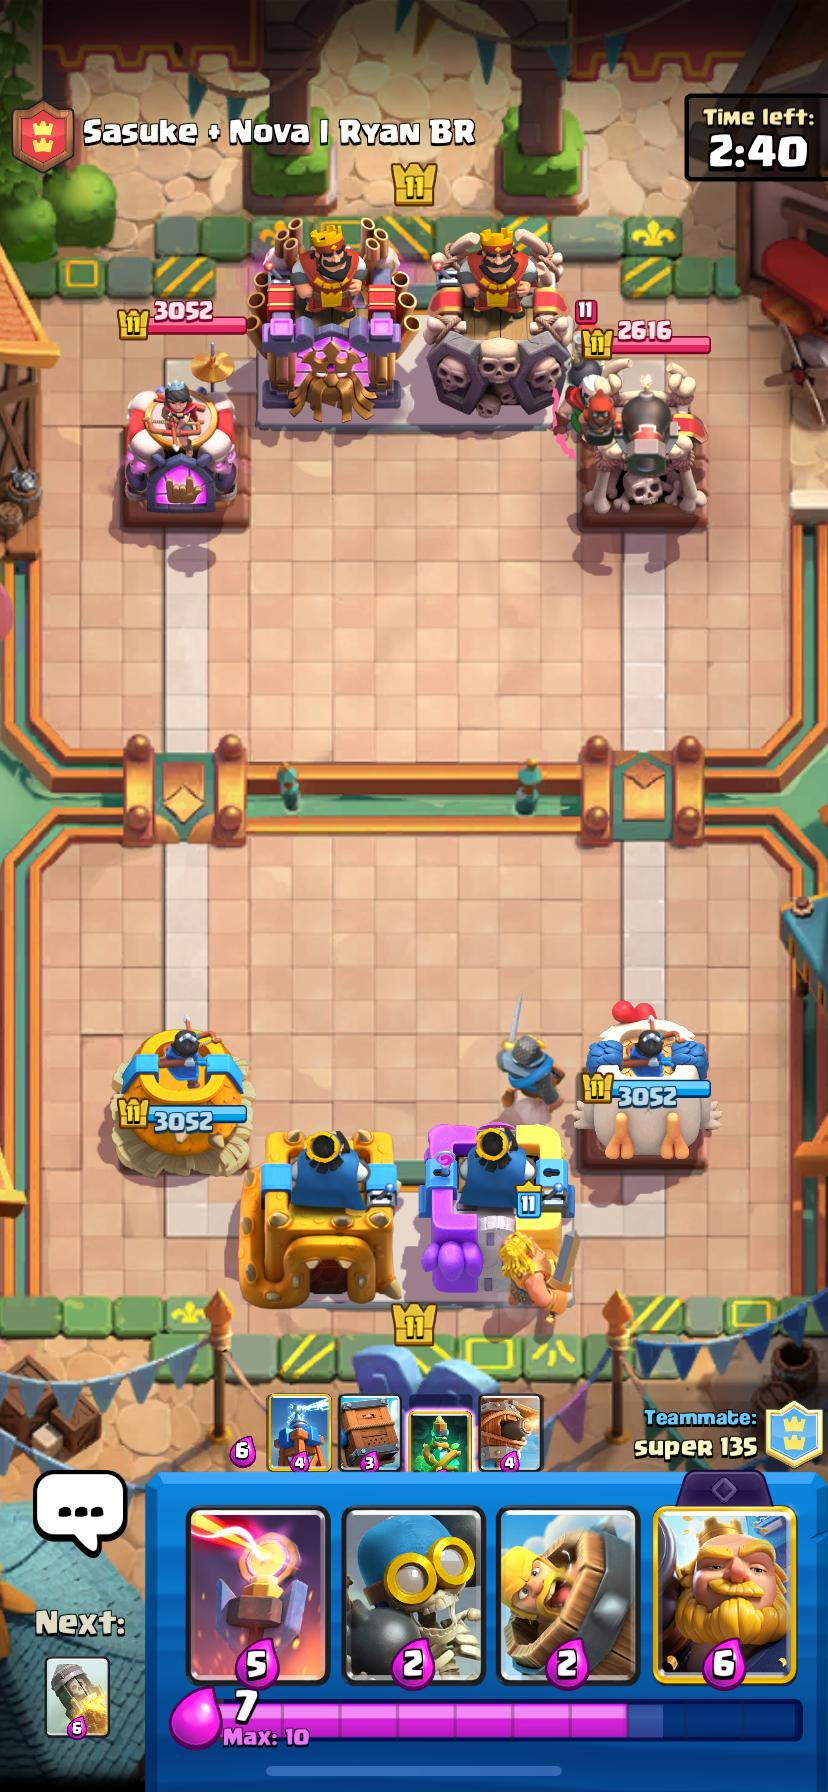EBomber: (568, 325, 604, 385)
ECannoneerTower: (583, 387, 706, 521)
EKingTower: (248, 219, 417, 419), (424, 227, 570, 417)
EMagicArcher: (554, 373, 602, 455)
EnemyPrincessTower: (124, 381, 237, 519)
OKnight: (497, 1034, 564, 1109)
OwnKingTower: (419, 1120, 574, 1298), (261, 1130, 401, 1305)
OwnPrincessTower: (116, 1029, 253, 1173), (579, 1014, 710, 1160)
